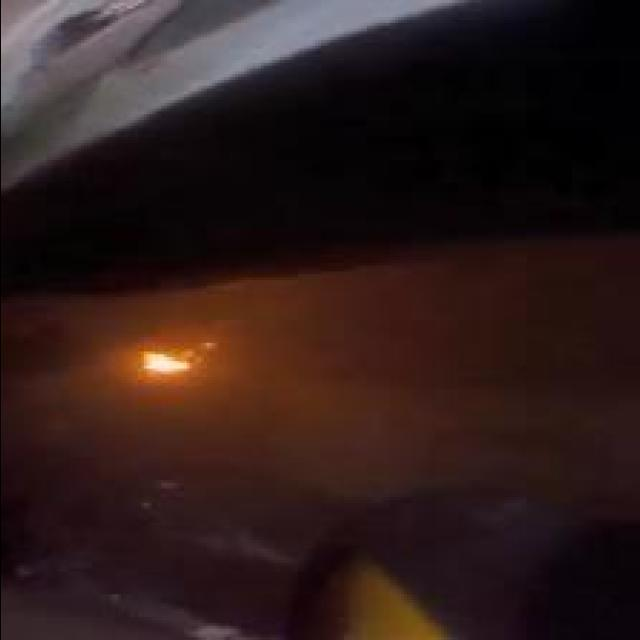Fire: (143, 352, 195, 374)
